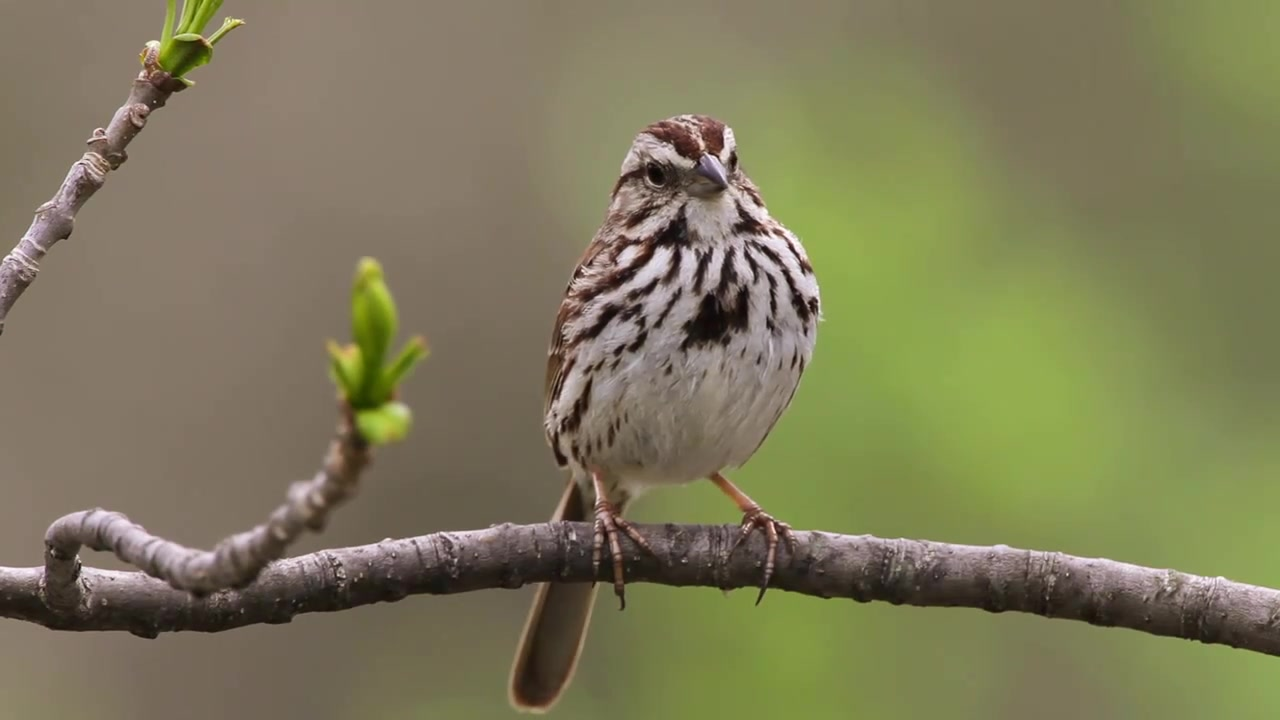bird: (509, 112, 822, 711)
